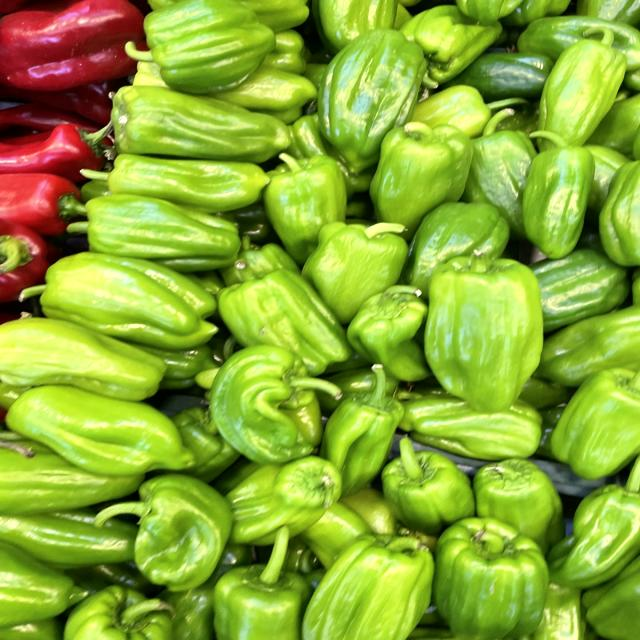bell pepper: (407, 239, 568, 411), (429, 511, 564, 640), (105, 81, 300, 168), (58, 187, 250, 275), (367, 117, 492, 232)
